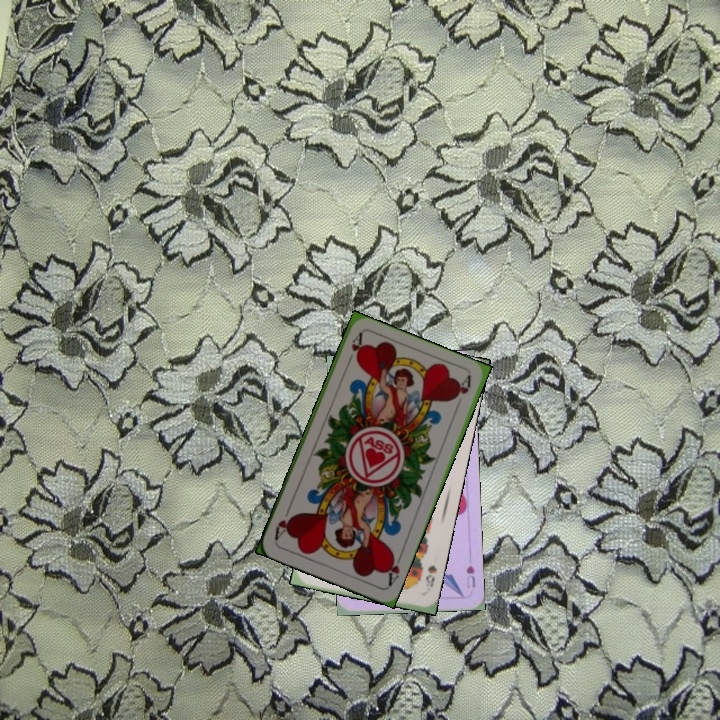HA: (382, 550, 405, 589), (344, 329, 365, 368)
HU: (462, 561, 478, 590)
S8: (422, 561, 439, 590)
